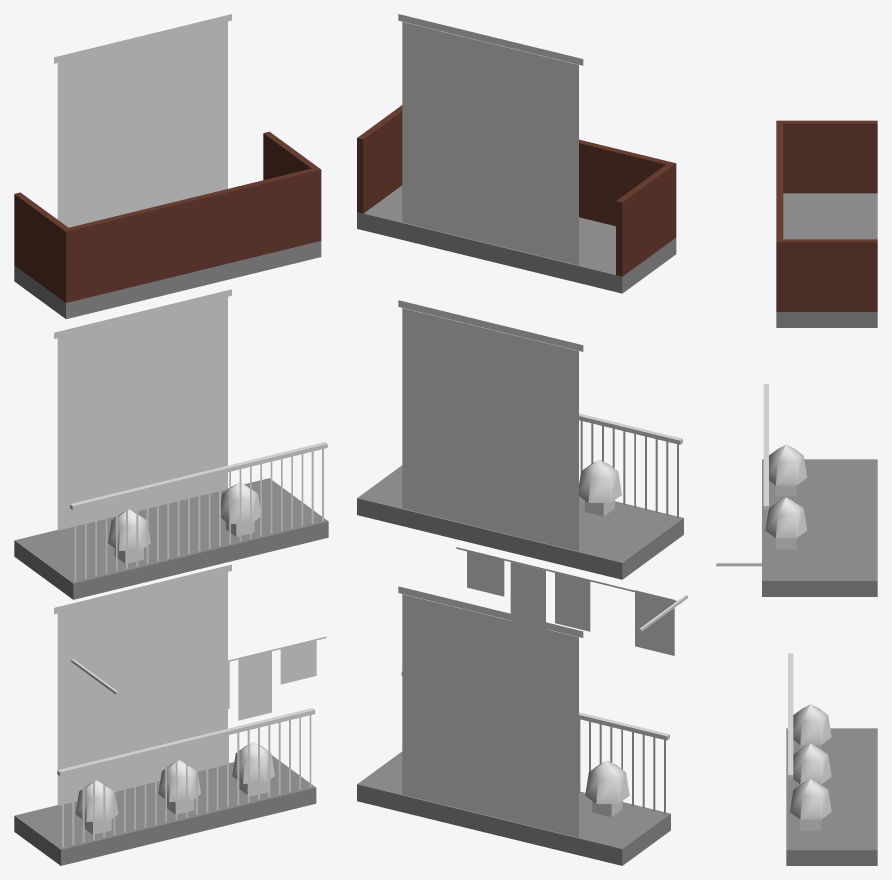
The model's file is LMM_Fac_CW_Balconies.fbx.
3 views of the same model, side by side, from view 1: azimuth 30°, elevation 25°; view 2: azimuth 150°, elevation 25°; view 3: azimuth 270°, elevation 25° (orthographic). The views are drawn at different scales.
Visible parts, largest first — view 1: LMM_Fac_CW_Balconies_LOD0; view 2: LMM_Fac_CW_Balconies_LOD0; view 3: LMM_Fac_CW_Balconies_LOD0.
Boxes of the visible parts, x1,y1,x2,y2 form: LMM_Fac_CW_Balconies_LOD0: (14,14,328,865); LMM_Fac_CW_Balconies_LOD0: (357,14,687,865); LMM_Fac_CW_Balconies_LOD0: (716,120,877,865).
Size of what is drawn, in the model's own units: 3.3 by 9.46 by 1.84.
